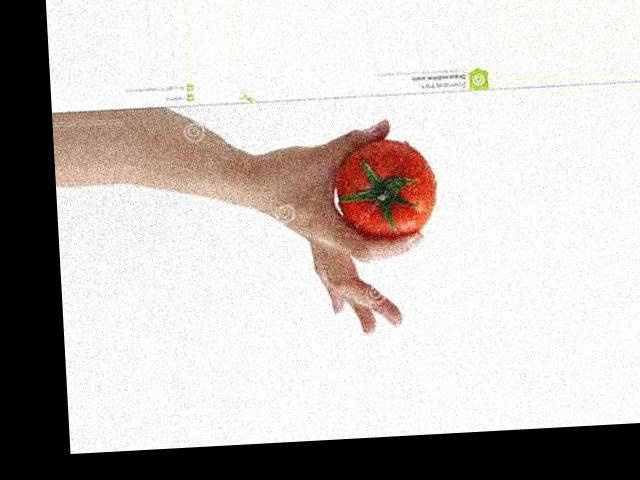tomato: (333, 137, 438, 242)
